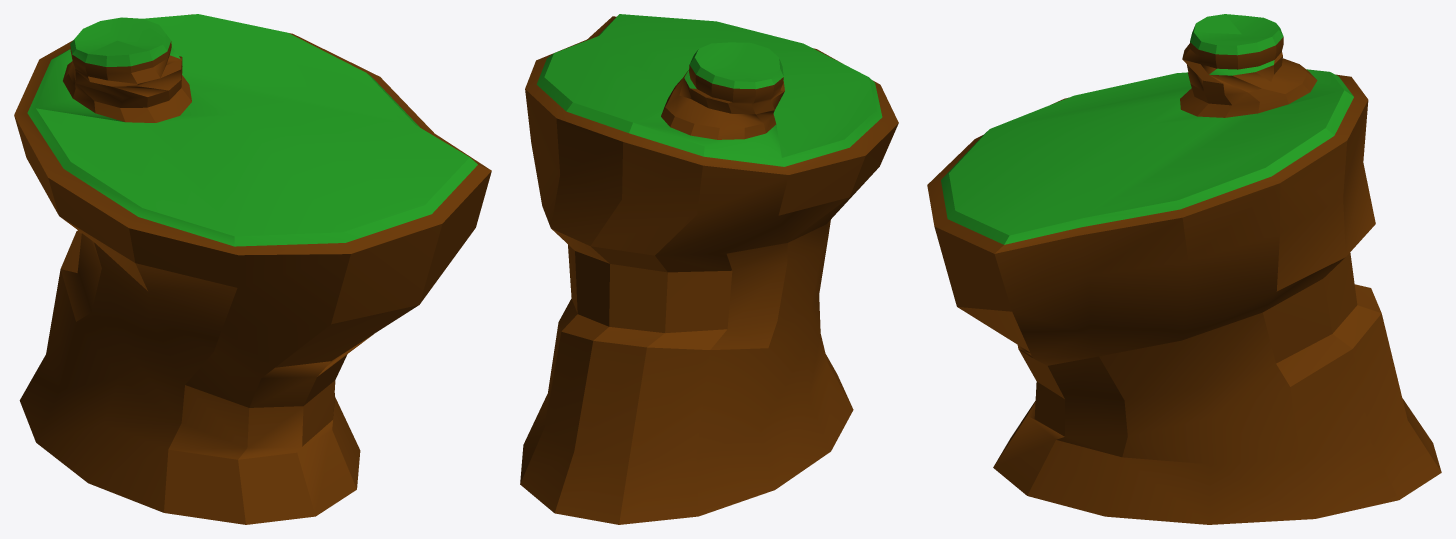
The model's file is bluffGrass.dae.
The picture shows the model from 3 angles, left to right: view 1: azimuth 30°, elevation 25°; view 2: azimuth 150°, elevation 25°; view 3: azimuth 270°, elevation 25°; orthographic projection. The views are drawn at different scales.
Parts seen in each view (by area): view 1: Bluff_Grass_02; view 2: Bluff_Grass_02; view 3: Bluff_Grass_02.
Boxes of the visible parts, box(x1,y1,x2,y2) form: Bluff_Grass_02: box(14, 14, 491, 524); Bluff_Grass_02: box(520, 14, 898, 524); Bluff_Grass_02: box(927, 14, 1441, 524).
Bounding box in the file's own units: 1952 × 2177 × 2500.
